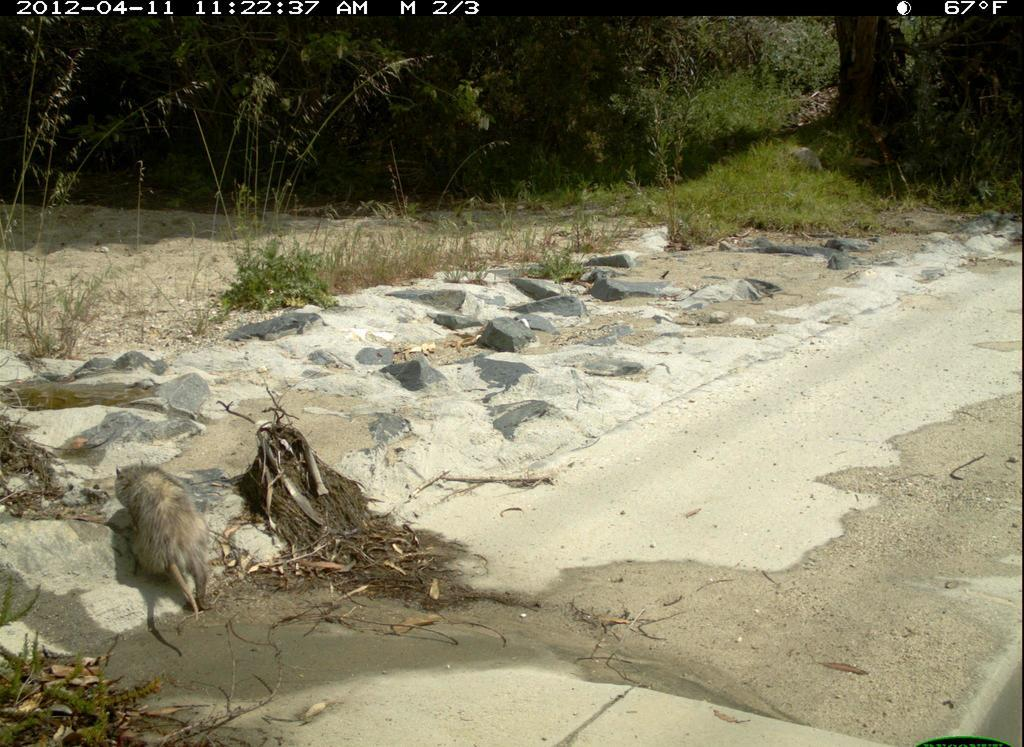opossum: (111, 456, 228, 625)
